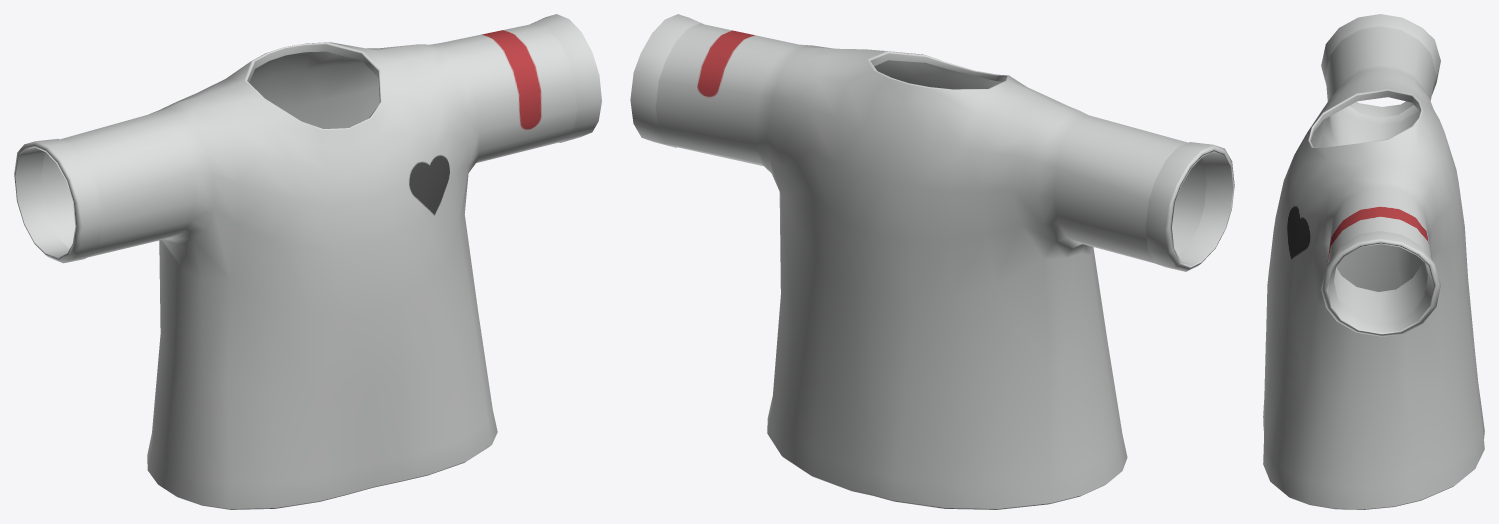
Rendered from upper cloth 03.glb.
3 views of the same model, side by side, from view 1: azimuth 30°, elevation 25°; view 2: azimuth 150°, elevation 25°; view 3: azimuth 270°, elevation 25° (orthographic). The views are drawn at different scales.
Visible parts, largest first — view 1: upper_cloth_03; view 2: upper_cloth_03; view 3: upper_cloth_03.
Part boxes in pixels (<box>): upper_cloth_03: <box>14,14,601,509</box>; upper_cloth_03: <box>630,14,1234,509</box>; upper_cloth_03: <box>1263,14,1484,509</box>.
Bounding box in the file's own units: 0.00936 × 0.00642 × 0.00388.
1 material, 1 textured.
